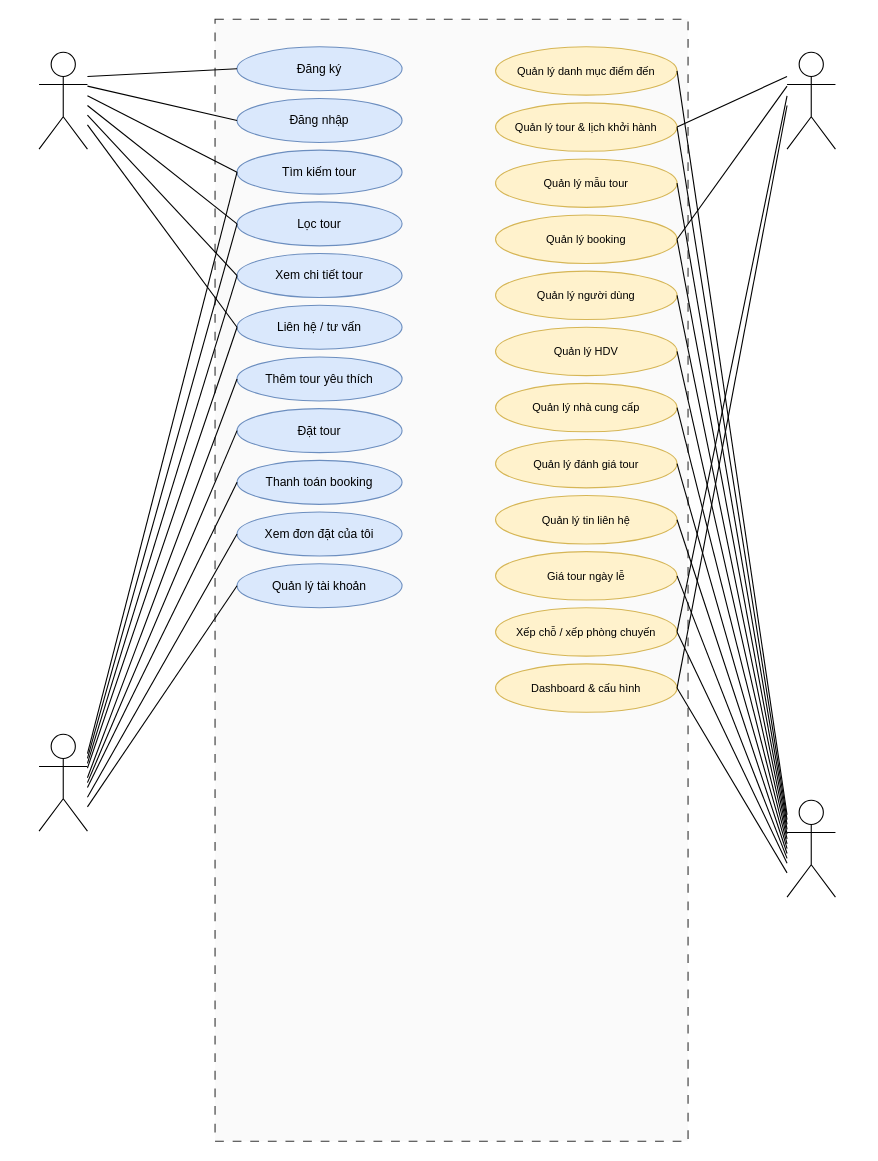
The diagram is 878 pixels wide and 1161 high, and some of its shapes have lost their labels. The shapes that lost their labels are listed below. From the top down, each one's box as (x1, y1, x2, y2) in pixels, then its label:
(38, 51, 87, 149): Khách (chưa đăng nhập)
(786, 51, 835, 149): Hướng dẫn viên (HDV)
(214, 18, 688, 1141): HỆ THỐNG ĐẶT TOUR ViGo
(38, 733, 87, 831): Khách (đã đăng nhập)
(786, 799, 835, 897): Quản trị viên (Admin)
